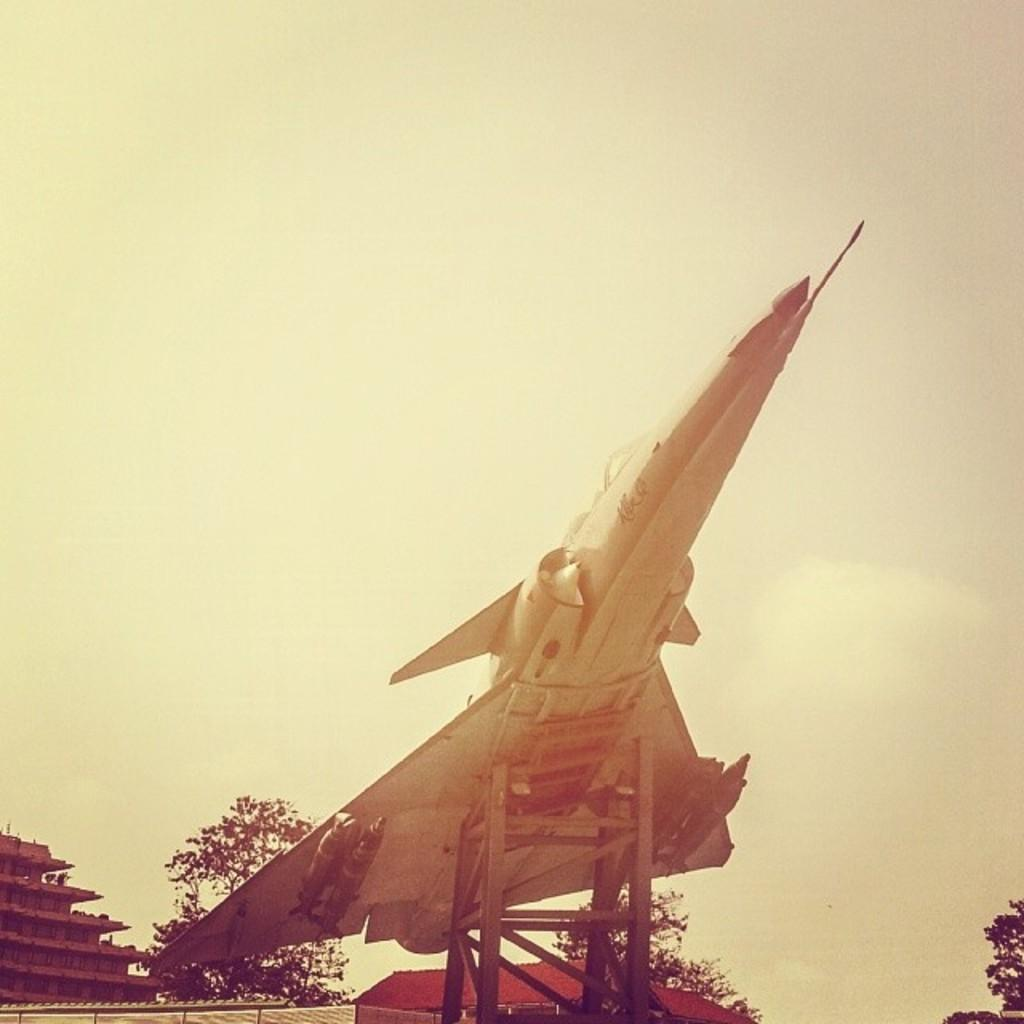Missile: (168, 158, 934, 995)
